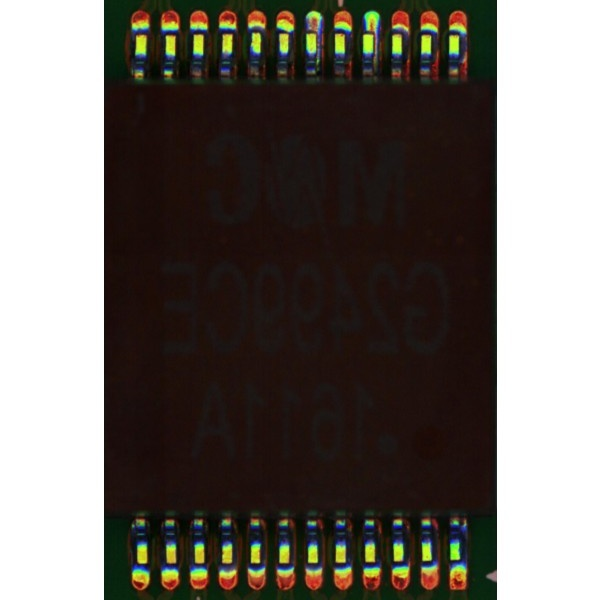Bad_podu: (308, 19, 317, 38), (366, 21, 375, 40)
Bad_qiaojiao: (374, 31, 379, 72), (316, 33, 321, 72)
